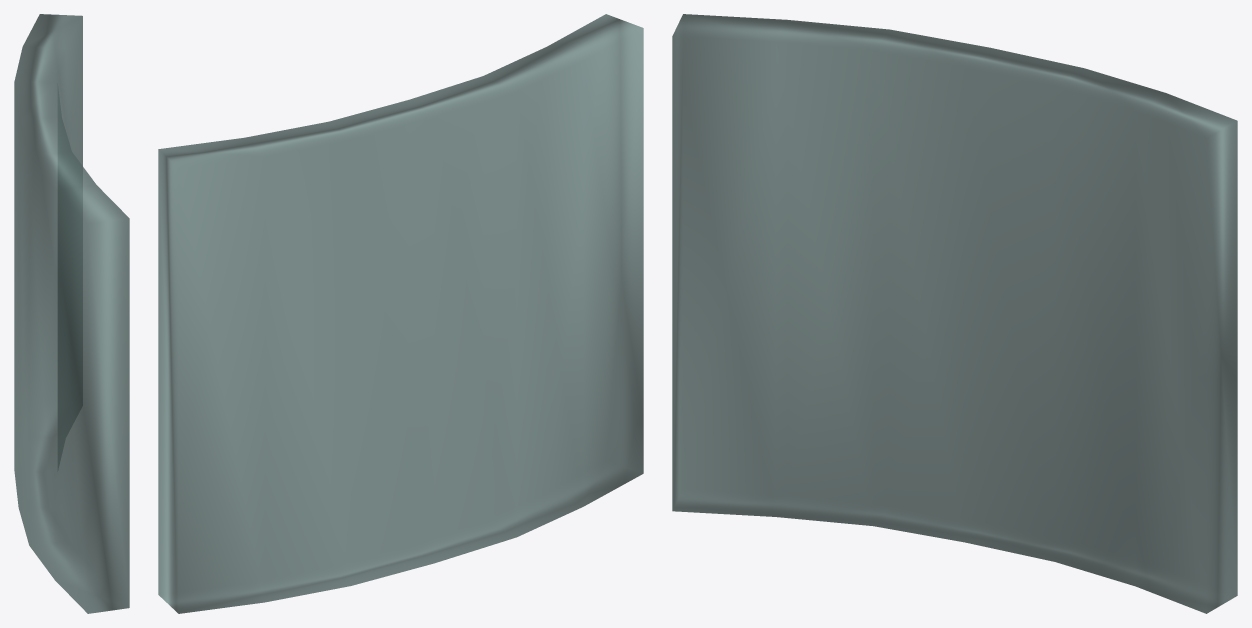
The model's file is Vidro.fbx.
3 views of the same model, side by side, from view 1: azimuth 30°, elevation 25°; view 2: azimuth 150°, elevation 25°; view 3: azimuth 270°, elevation 25° (orthographic). The views are drawn at different scales.
Visible parts, largest first — view 1: Cube.040; view 2: Cube.040; view 3: Cube.040.
Part boxes in pixels (x1,y1,x2,y2): Cube.040: (14,14,129,613); Cube.040: (158,14,643,613); Cube.040: (672,14,1237,613).
Size of the model in its own units: 145 by 257 by 277.
